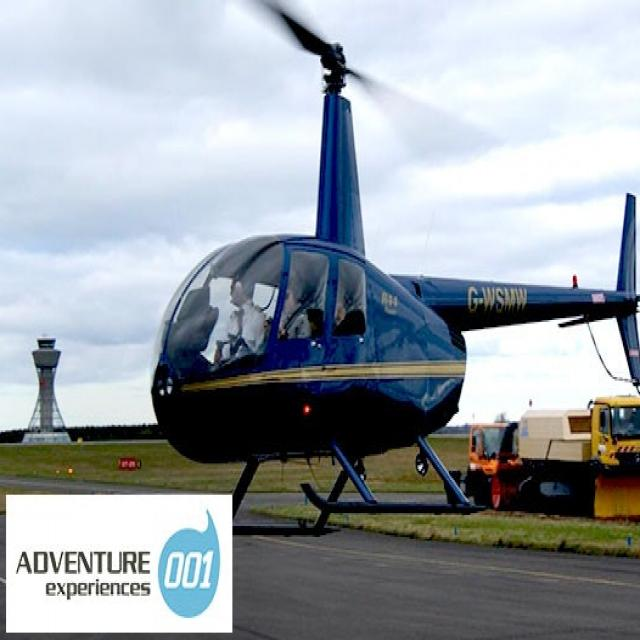helicopter: (153, 1, 640, 536)
